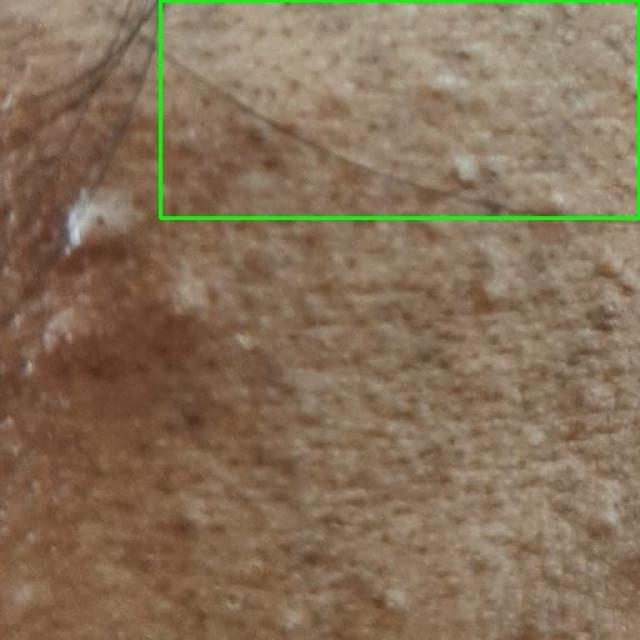Atopic Dermatitis: (160, 0, 639, 218)
